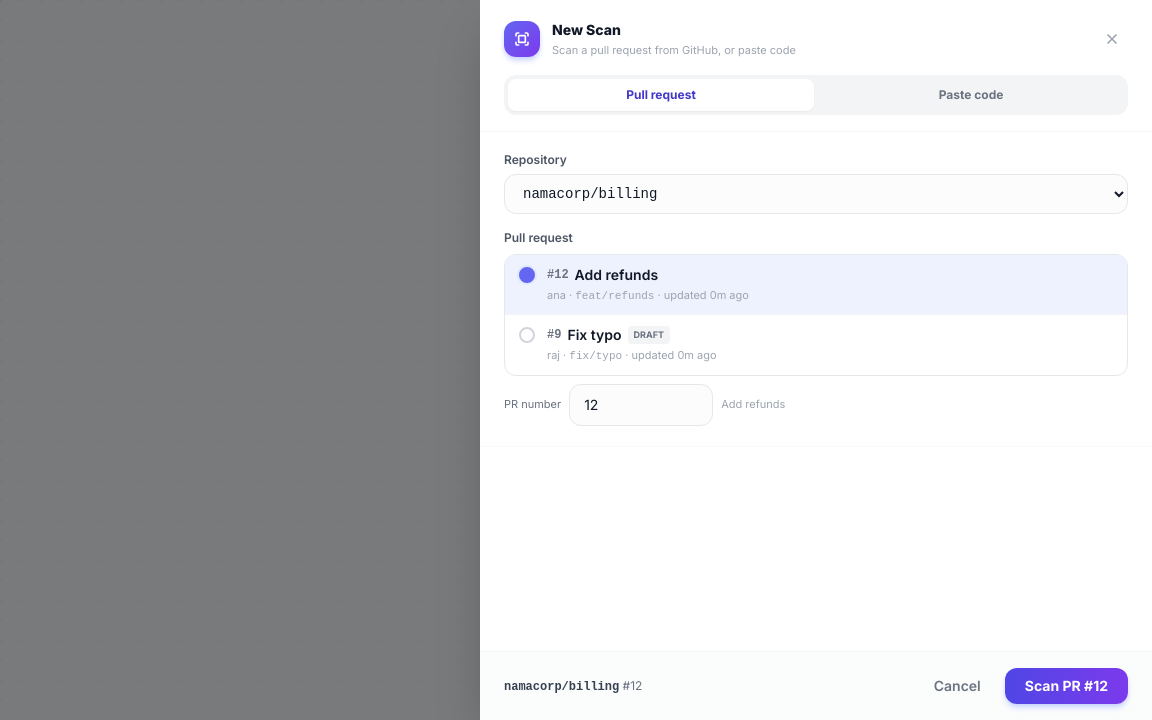
Test: scans the chosen PR, waits for its result and opens it
Expected: the radio button labelled "#12 Add refunds ana · feat/refunds · updated 0m ago" is shown, [505,254,1127,314]
Step 1. Click the button "Scan PR #12" → (1066,686), box [1005,668,1128,704]
Wait 6000 ms
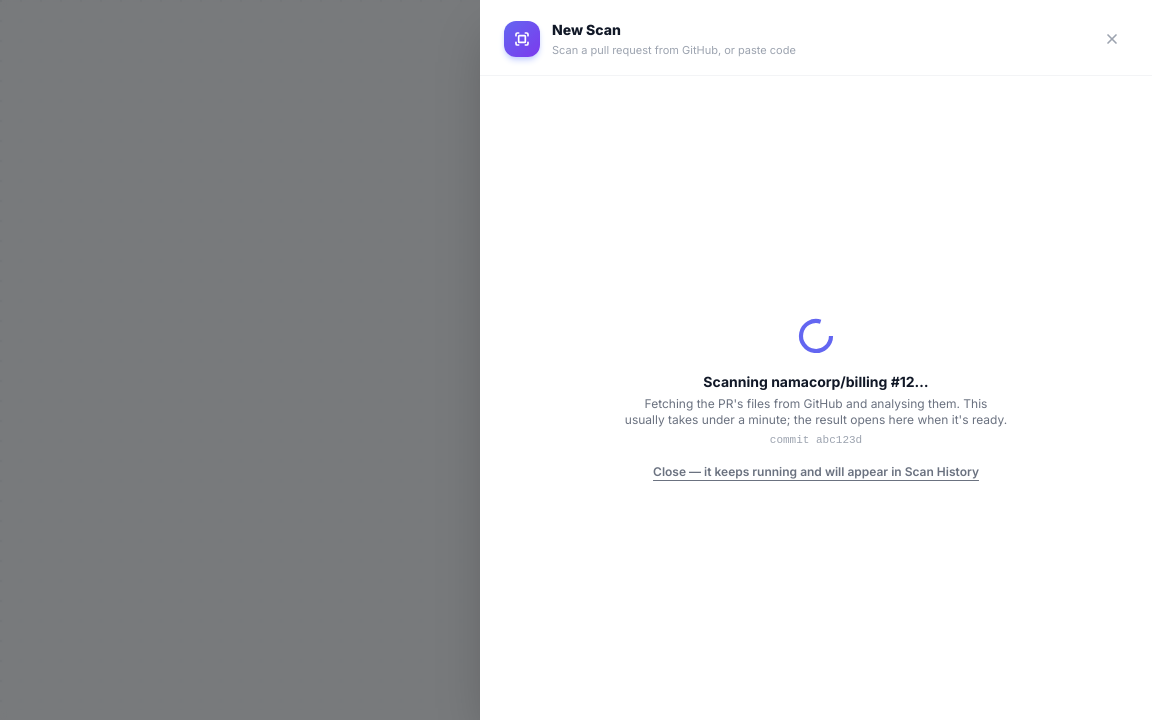
Expected: the text "Scanning namacorp/billing #12…" is shown, [703,372,929,390]
